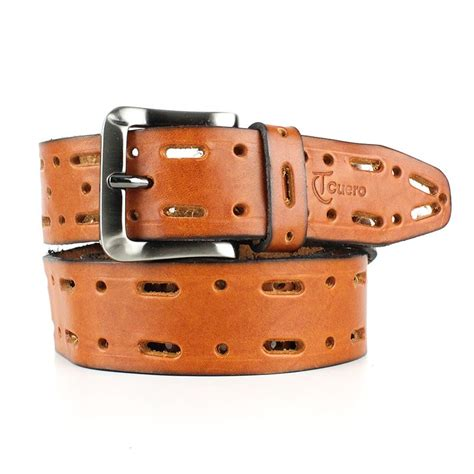cuero: (31, 122, 452, 377)
